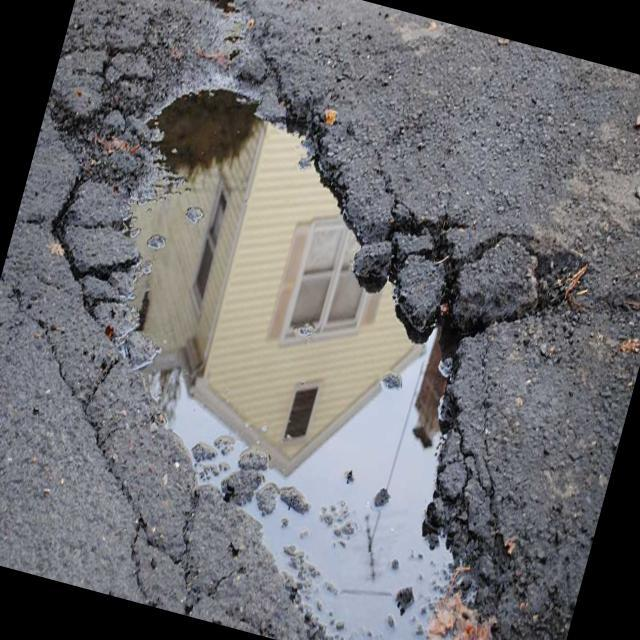Pothole: (5, 25, 532, 640)
